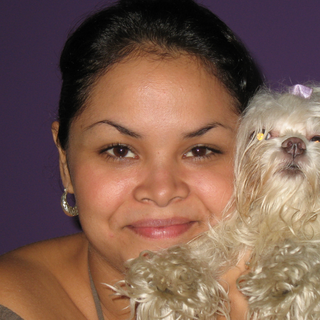eye: (96, 139, 140, 164), (177, 142, 221, 166)
